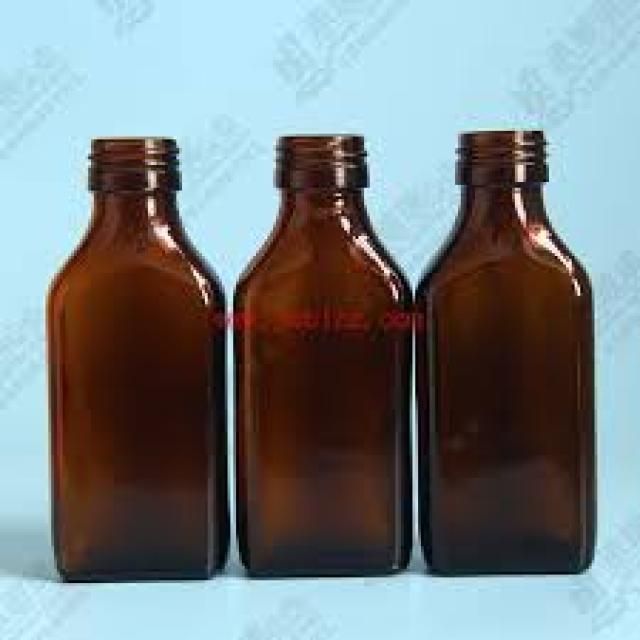glass: (413, 128, 595, 575), (49, 137, 228, 580), (233, 134, 410, 572)
